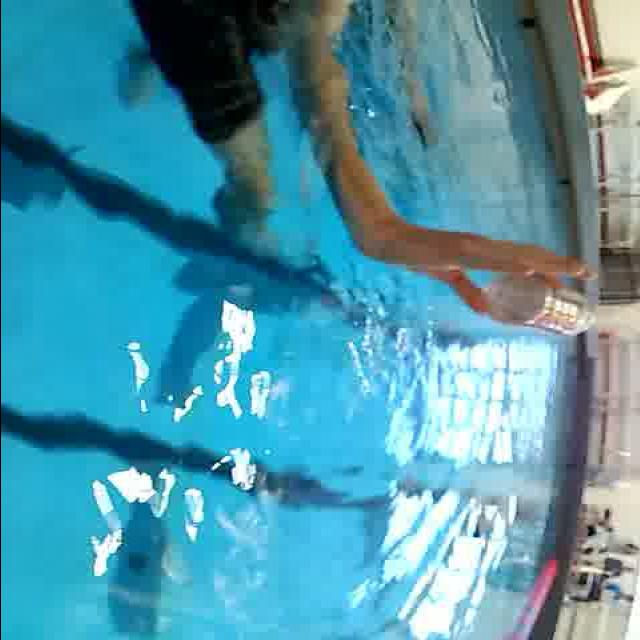Bottle: (472, 270, 604, 342)
